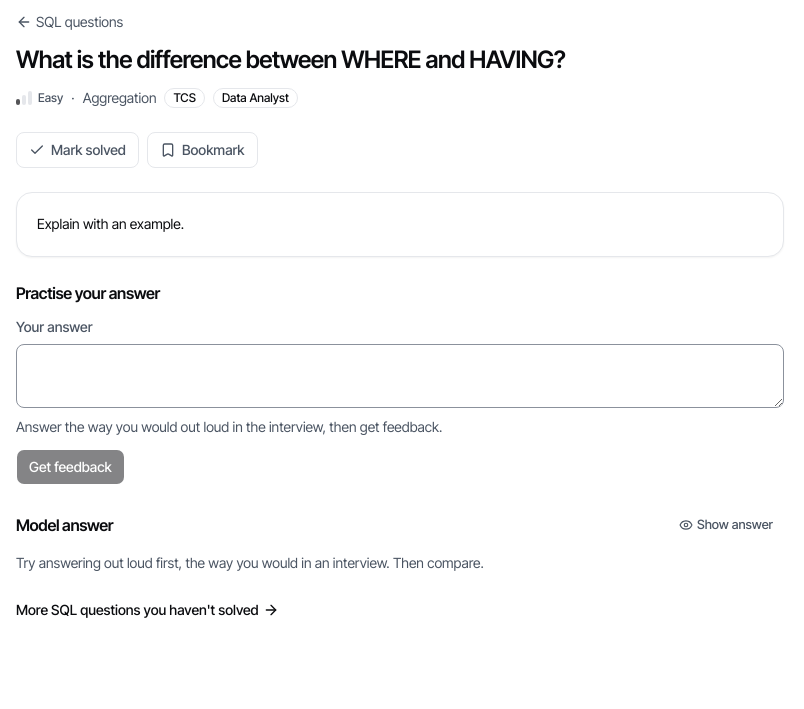
Test: QuestionView › hides the model answer until asked
Expected: the heading "What is the difference between WHERE and HAVING?" is shown, [16,45,565,74]
Expected: the text "WHERE filters rows" is not shown
Click the button "Show answer" at (726, 525), box [668,509,784,541]
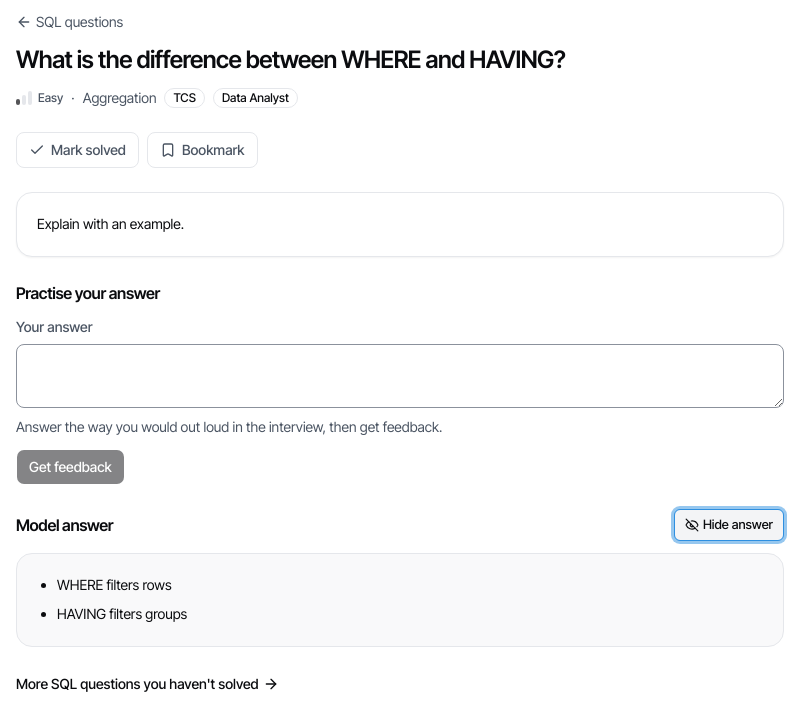
Expected: the list item "WHERE filters rows" is shown, [57,576,172,593]
